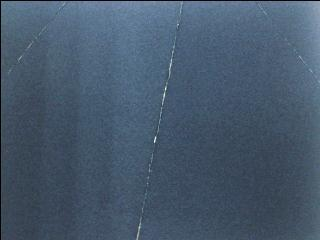crack: (129, 0, 190, 240), (0, 1, 74, 76), (256, 0, 320, 86)
